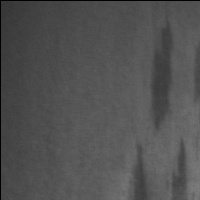inclusion: (148, 12, 177, 137), (164, 134, 195, 200), (129, 137, 150, 200)
